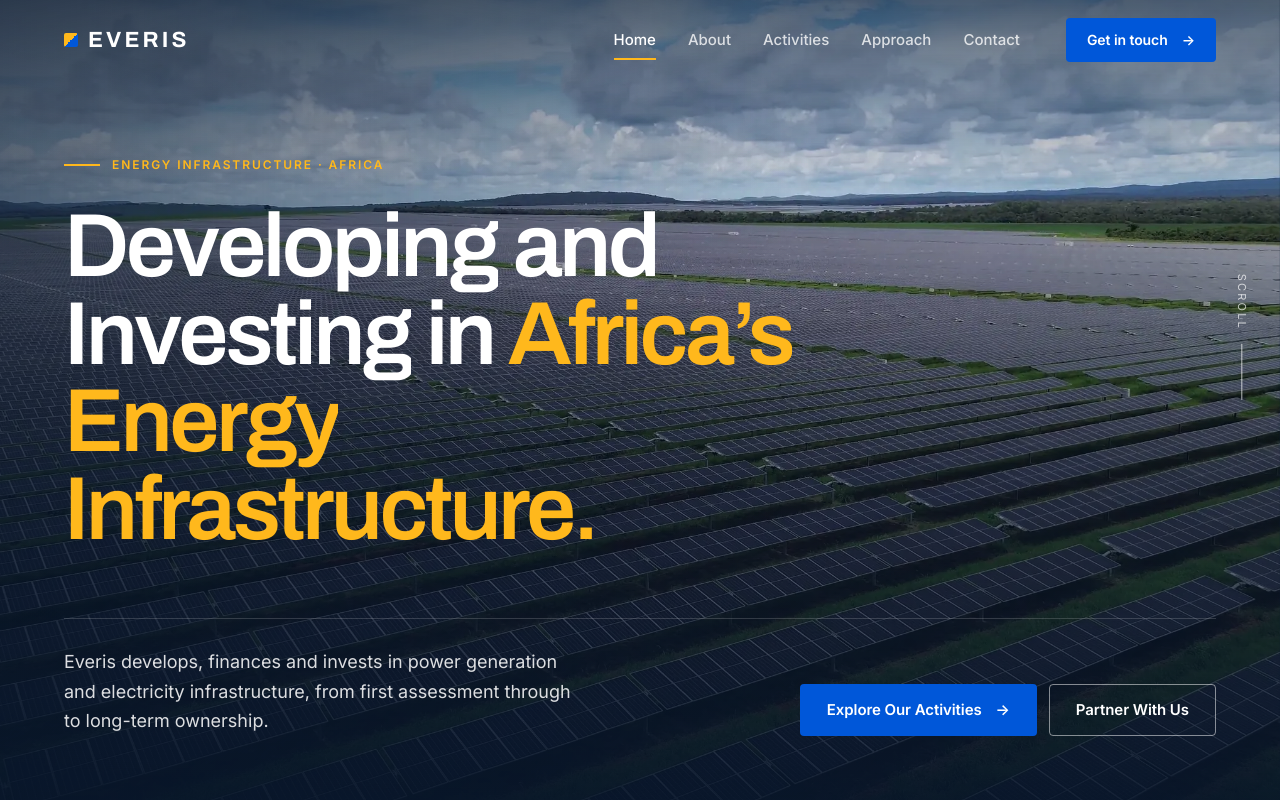
Test: enquiry shortcuts › Partner With Us on the home page preselects a partnership enquiry
Click the link "Partner With Us" at [1132, 710], box [1049, 684, 1216, 736]
(page scrolled)
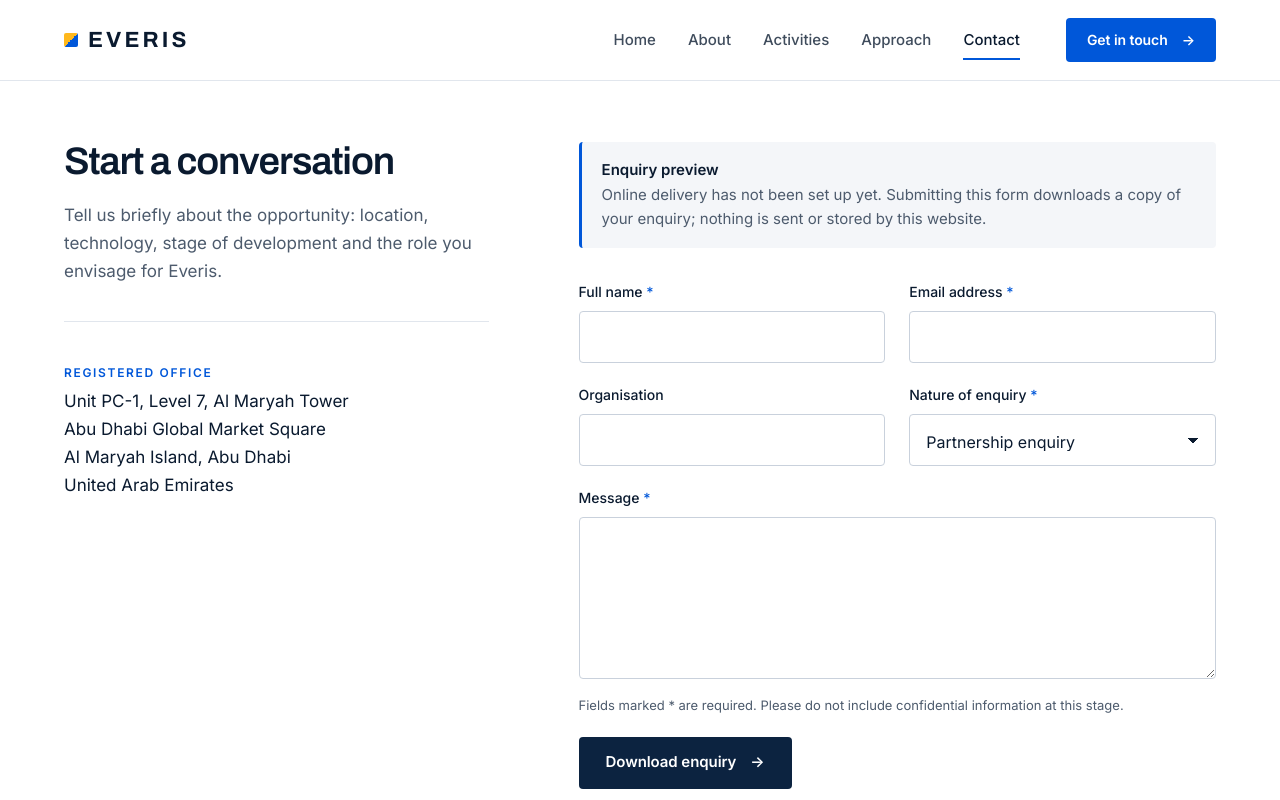
Expected: the dropdown labelled "Nature of enquiry *" shows "Partnership enquiry", [909, 414, 1216, 466]
